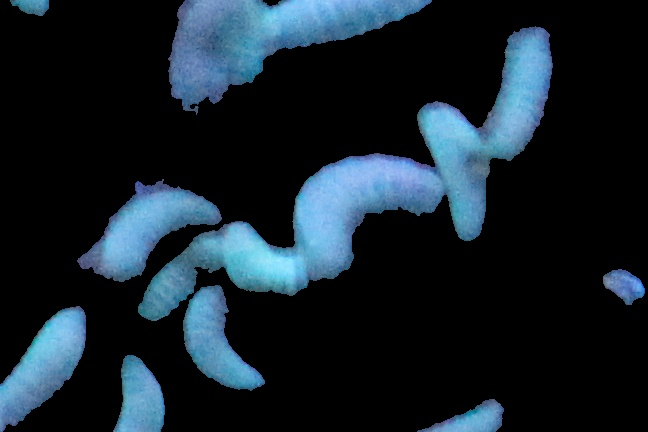larvae: (292, 160, 442, 274), (162, 1, 258, 124), (1, 312, 94, 428), (262, 1, 454, 56), (90, 196, 210, 284), (422, 104, 496, 241), (182, 280, 266, 396), (486, 32, 554, 152), (139, 234, 227, 318), (115, 351, 174, 432)
